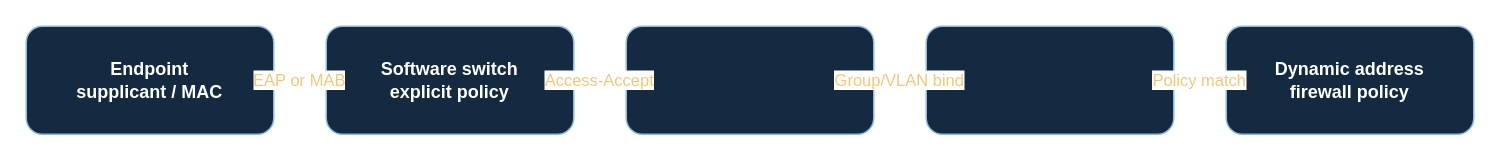
The diagram is 1500 pixels wide and 161 high, and some of its shapes have lost their labels. The centre of each missing label's shape, as x and y in pixels:
"802.1X / MAB RADIUS exchange" belongs at point (749, 79).
"RADIUS result group + VLAN" belongs at point (1049, 79).
